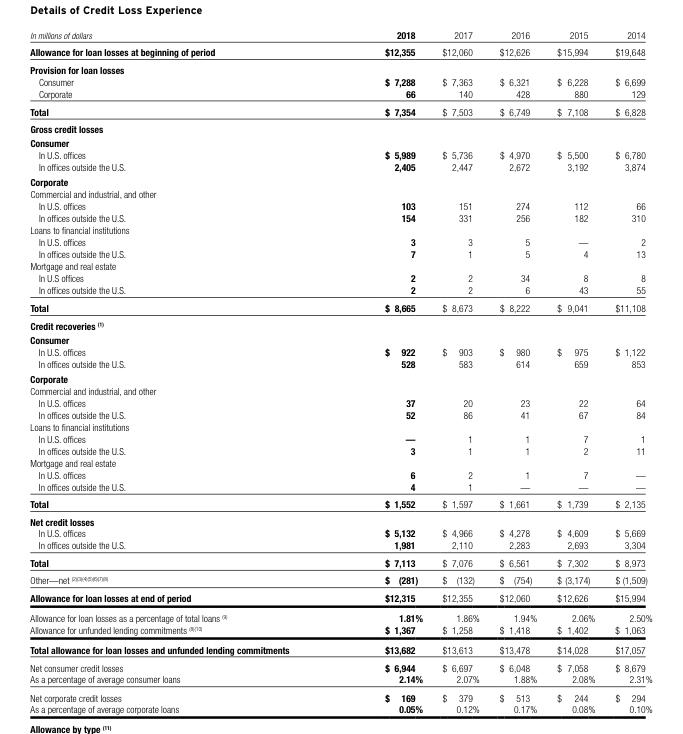table: (29, 28, 651, 702)
table column: (29, 28, 336, 702), (336, 28, 431, 702), (488, 28, 546, 702), (546, 28, 604, 702), (431, 28, 488, 702), (604, 28, 651, 702)
table column header: (29, 28, 651, 43)
table projected row header: (29, 119, 651, 135), (29, 316, 651, 332), (29, 60, 651, 75), (29, 370, 651, 384), (29, 512, 651, 526), (29, 135, 651, 148), (29, 174, 651, 187), (29, 332, 651, 345), (29, 187, 651, 199), (29, 223, 651, 235), (29, 259, 651, 271), (29, 384, 651, 396), (29, 420, 651, 432), (29, 456, 651, 468)
table row: (29, 588, 651, 607), (29, 639, 651, 658), (29, 298, 651, 316), (29, 553, 651, 571), (29, 43, 651, 60), (29, 102, 651, 119), (29, 495, 651, 512), (29, 571, 651, 588), (29, 119, 651, 135), (29, 316, 651, 332), (29, 607, 651, 623), (29, 623, 651, 639), (29, 28, 651, 43), (29, 60, 651, 75), (29, 87, 651, 102), (29, 283, 651, 298), (29, 480, 651, 495), (29, 538, 651, 553), (29, 658, 651, 673), (29, 687, 651, 702), (29, 160, 651, 174), (29, 370, 651, 384), (29, 512, 651, 526), (29, 673, 651, 687), (29, 135, 651, 148), (29, 174, 651, 187), (29, 332, 651, 345), (29, 357, 651, 370), (29, 75, 651, 87), (29, 148, 651, 160), (29, 187, 651, 199), (29, 199, 651, 211), (29, 211, 651, 223), (29, 223, 651, 235), (29, 235, 651, 247), (29, 247, 651, 259), (29, 259, 651, 271), (29, 271, 651, 283), (29, 345, 651, 357), (29, 384, 651, 396), (29, 396, 651, 408), (29, 408, 651, 420), (29, 420, 651, 432), (29, 432, 651, 444), (29, 444, 651, 456), (29, 456, 651, 468), (29, 468, 651, 480), (29, 526, 651, 538)
